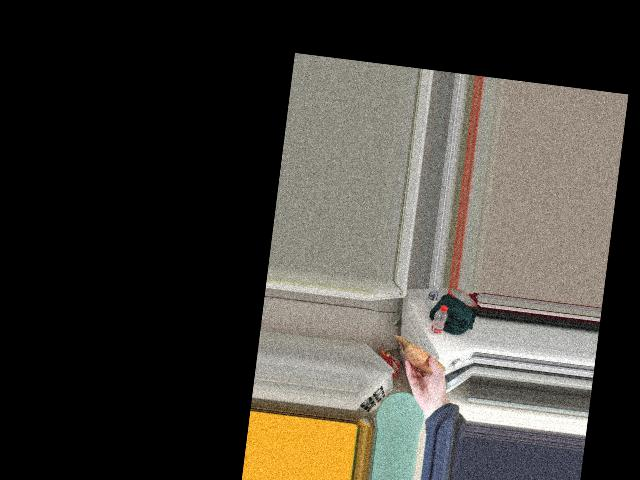sweet_potato: (405, 345, 441, 377)
